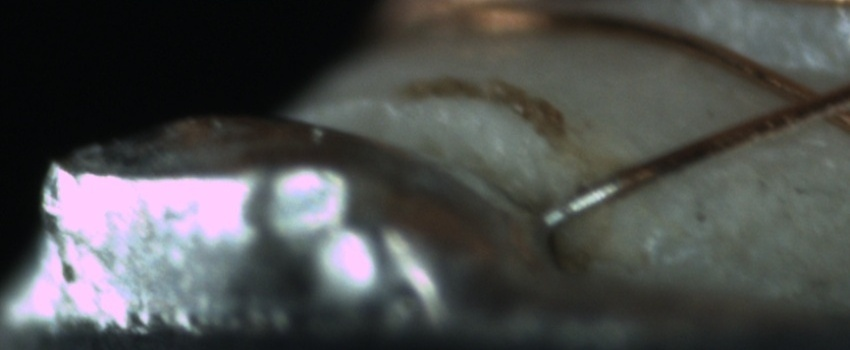CL: (764, 67, 850, 131)
TS: (545, 179, 624, 229)
